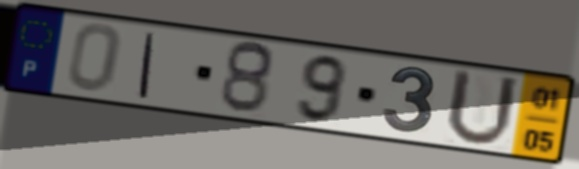0: (62, 21, 126, 96)
3: (380, 64, 439, 137)
8: (216, 39, 279, 118)
9: (293, 52, 352, 126)
I: (135, 30, 160, 102)
U: (441, 66, 523, 150)
